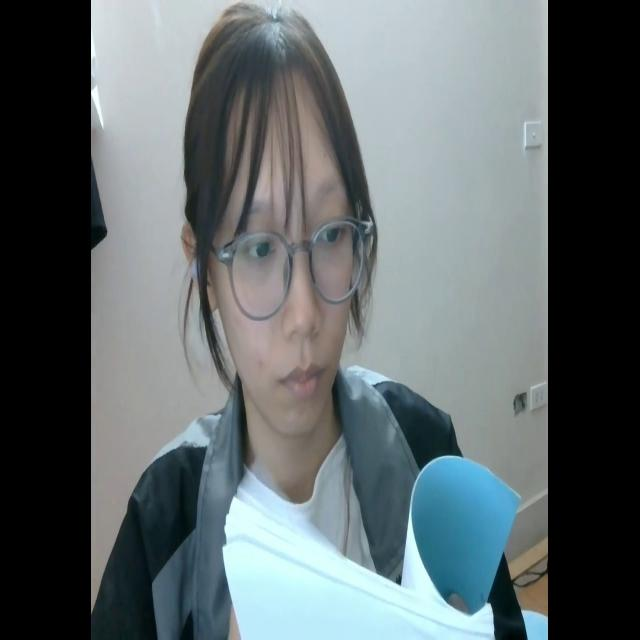book: (213, 445, 522, 640)
student: (108, 15, 524, 640)
